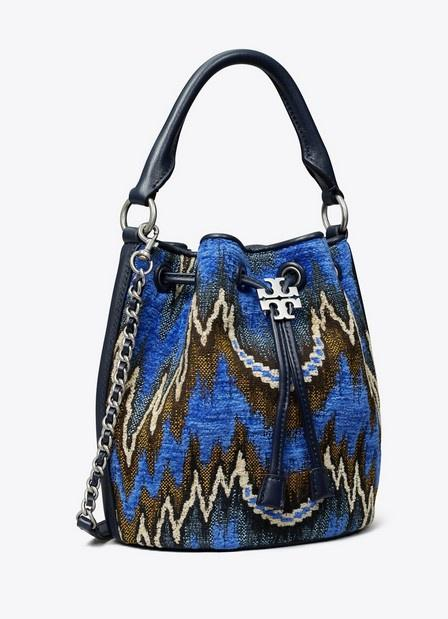TORY-BURCH: (257, 278, 302, 319)
